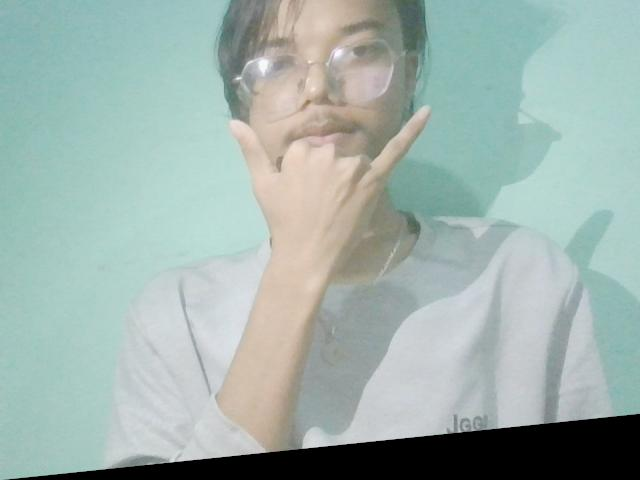Wrong: (203, 90, 457, 311)
